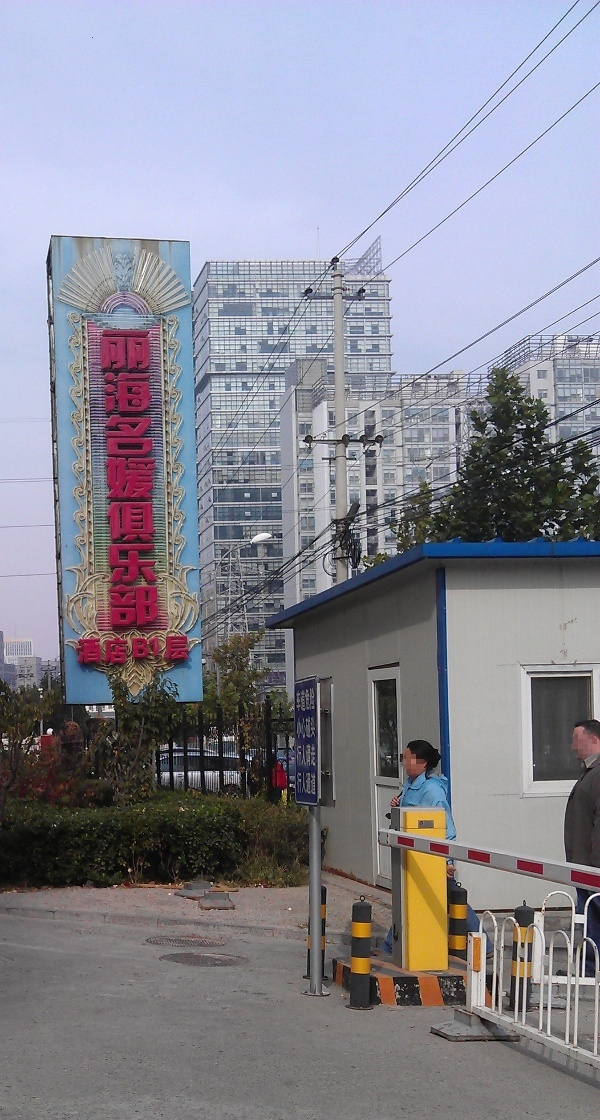text: (113, 329, 128, 625), (129, 329, 144, 625), (145, 329, 159, 625), (99, 329, 112, 625), (81, 634, 96, 663), (97, 634, 112, 663), (113, 634, 128, 663), (129, 634, 144, 663), (145, 634, 160, 663), (161, 634, 176, 663), (177, 634, 192, 663), (305, 772, 317, 796), (305, 687, 316, 712), (305, 715, 316, 739), (305, 745, 317, 767), (296, 687, 304, 712), (296, 715, 304, 739), (297, 772, 304, 796), (297, 745, 304, 767), (75, 634, 80, 663)
